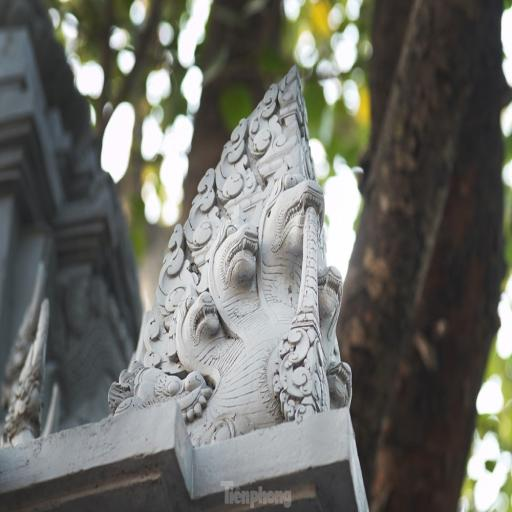la: (177, 154, 224, 264), (154, 220, 197, 324), (213, 104, 248, 222), (244, 66, 279, 174)
ran: (107, 55, 363, 469), (0, 255, 80, 446)
